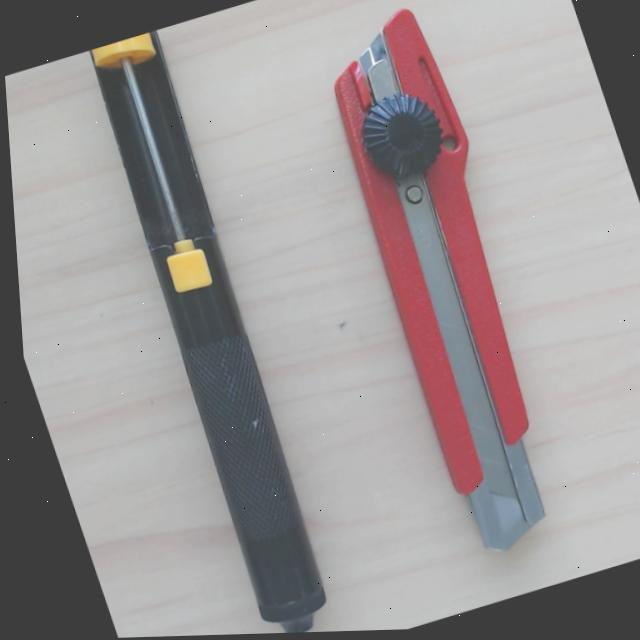Cutter-Besar: (319, 1, 555, 562)
Desoldering-Pump: (87, 29, 334, 640)
